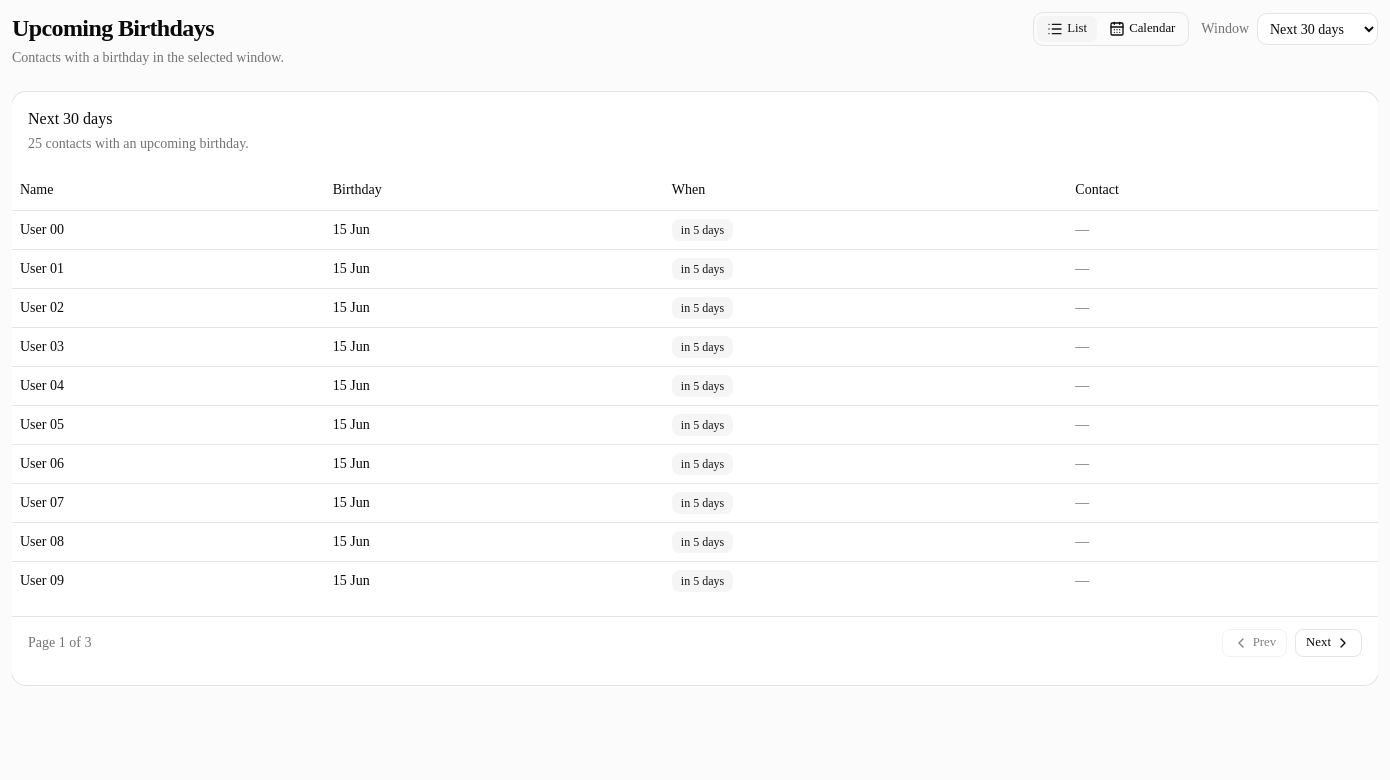
Test: HomePage pagination controls › Prev navigates back through previously seen cursors
Check: the text "Page 1 of 3" is shown, box 28,632 -> 91,652
Check: the button with aria-label "previous page" is disabled, box 1222,628 -> 1287,656
Click the button with aria-label "next page": (1329, 642) 1295,628 -> 1362,656
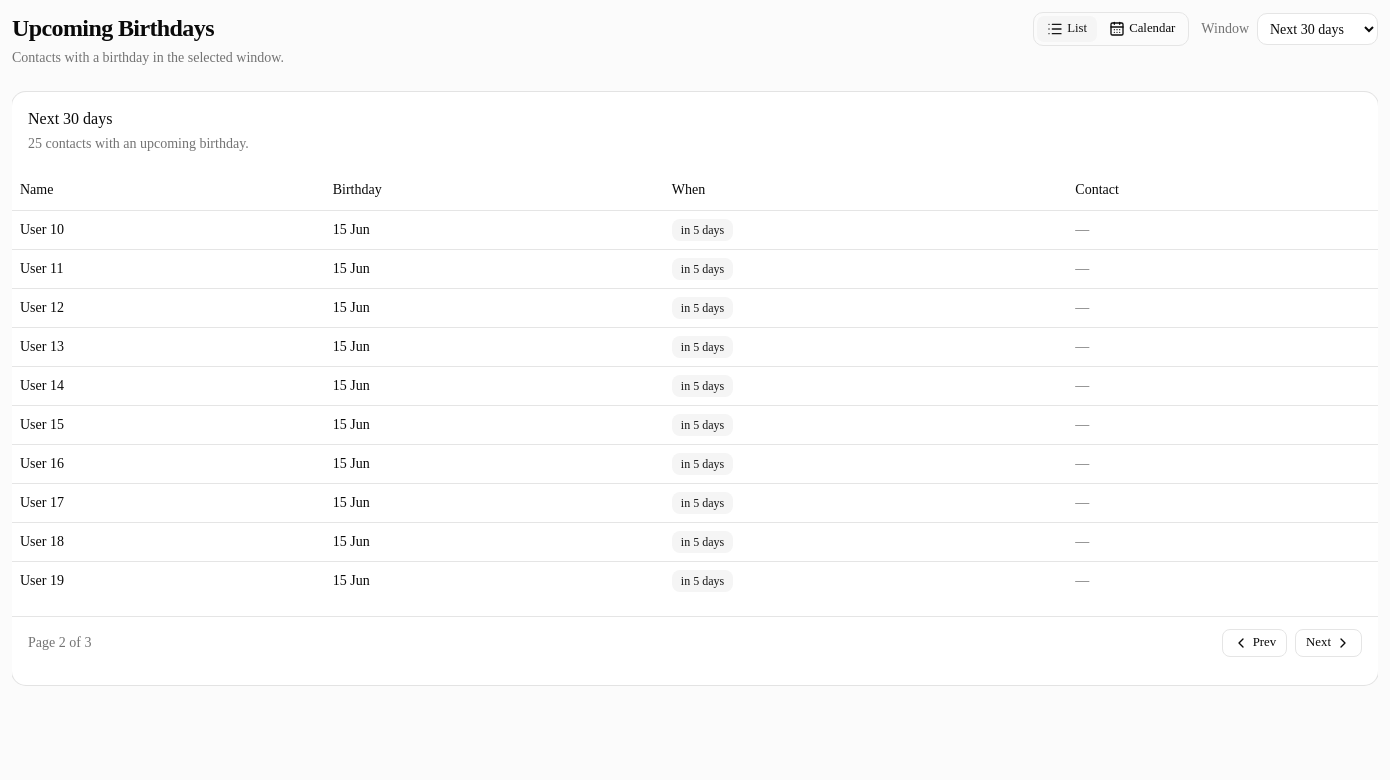
Check: the text "Page 2 of 3" is shown, box 28,632 -> 91,652
Click the button with aria-label "previous page": (1254, 642) 1222,628 -> 1287,656
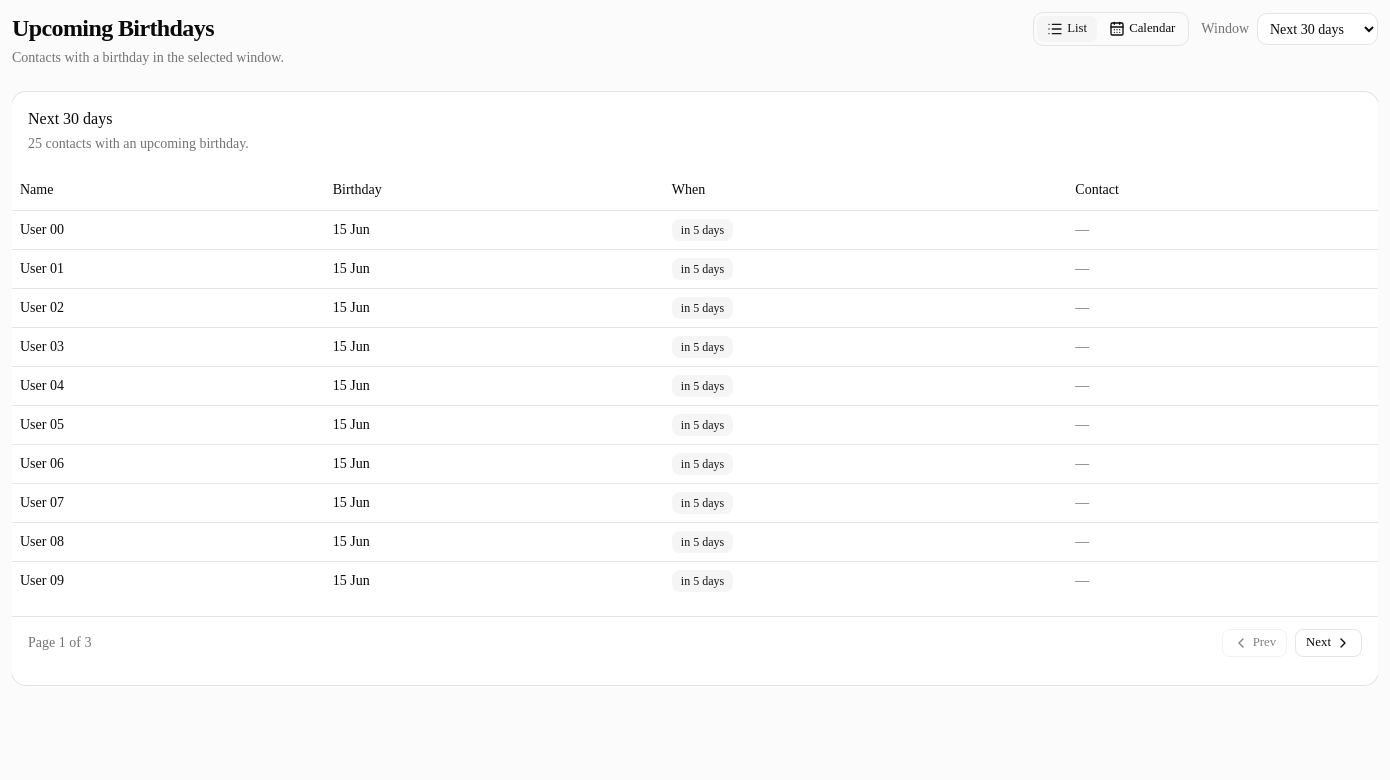
Check: the text "Page 1 of 3" is shown, box 28,632 -> 91,652
